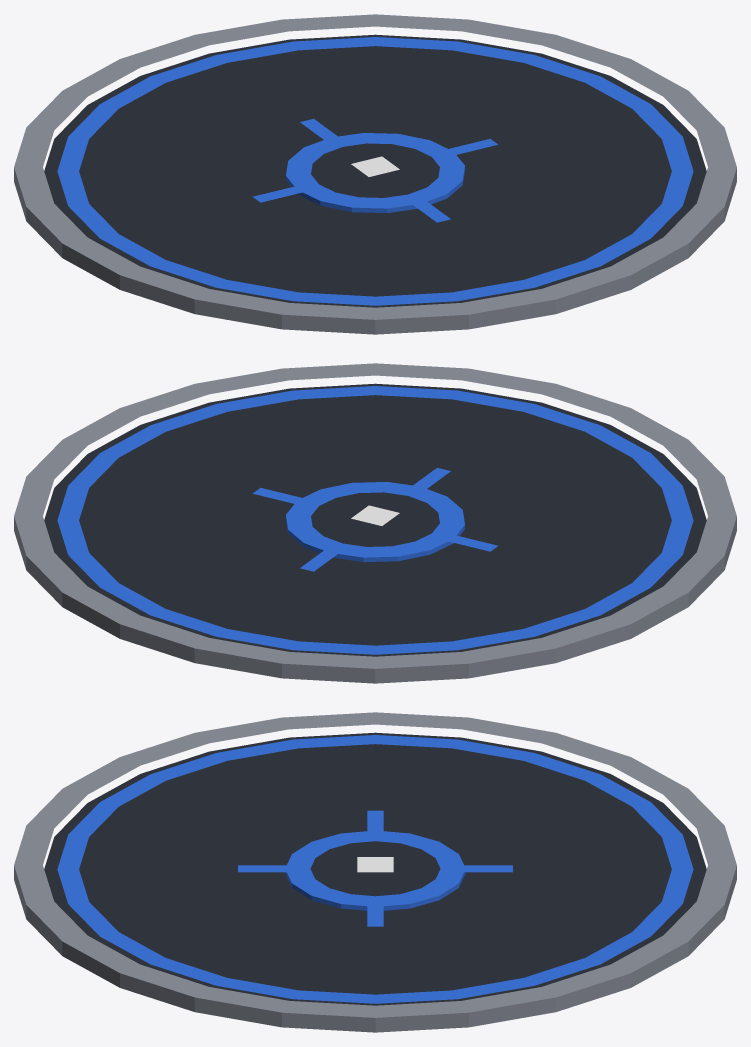
Rendered from rifleman_common_area.glb.
3 renders of one model, top to bottom at view 1: azimuth 30°, elevation 25°; view 2: azimuth 150°, elevation 25°; view 3: azimuth 270°, elevation 25°, orthographic.
Parts seen in each view (by area): view 1: rifleman_common_area; view 2: rifleman_common_area; view 3: rifleman_common_area.
Boxes of the visible parts, x1,y1,x2,y2 form: rifleman_common_area: [14, 14, 736, 334]; rifleman_common_area: [14, 363, 736, 683]; rifleman_common_area: [14, 712, 736, 1032].
Size of the model in its own units: 2 by 0.046 by 2.
Materials: 1 (1 with a texture image).
